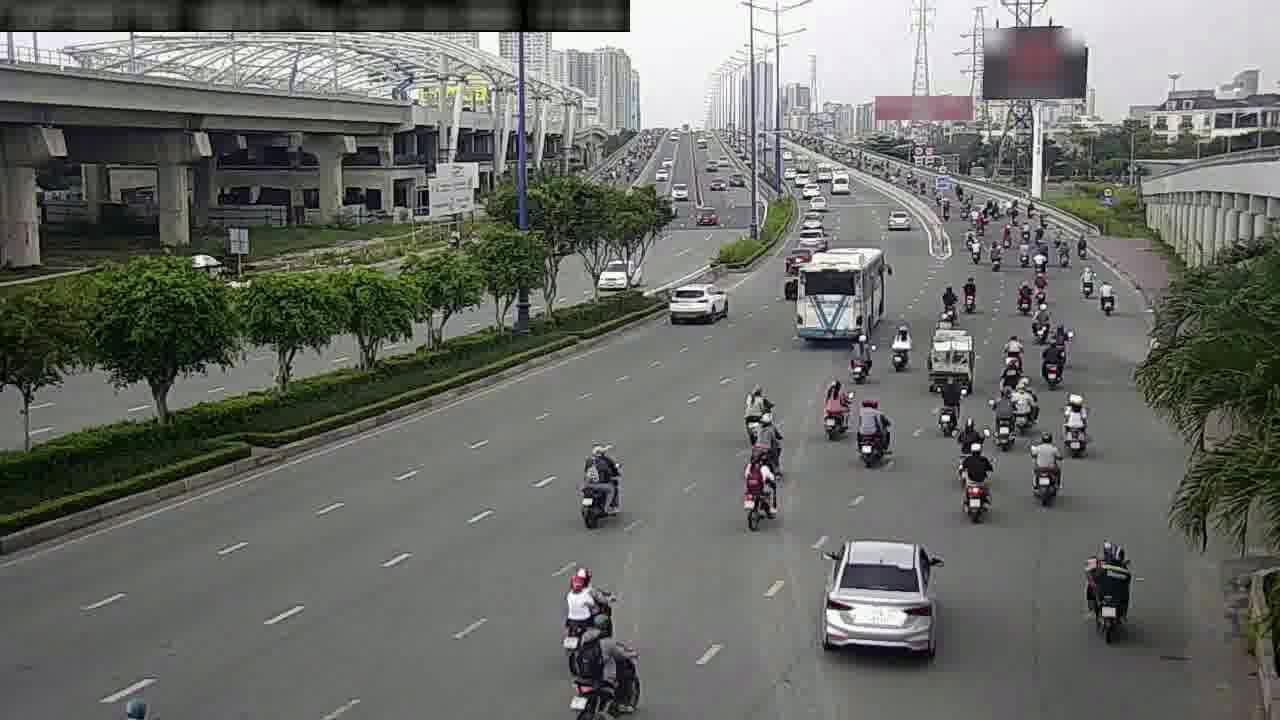14: (789, 260, 877, 343)
container: (822, 529, 944, 656), (662, 275, 731, 327)
motorbike: (567, 612, 639, 712), (1079, 534, 1144, 637), (556, 558, 611, 651), (570, 444, 621, 526), (739, 455, 785, 530), (1023, 430, 1065, 499), (850, 402, 895, 466), (954, 450, 995, 517), (1054, 392, 1095, 456), (733, 376, 773, 434), (953, 413, 991, 473), (743, 405, 782, 463), (926, 377, 964, 434), (986, 387, 1021, 444), (1034, 335, 1070, 389), (815, 378, 850, 433), (1007, 376, 1041, 431), (884, 317, 917, 372), (845, 330, 878, 380), (995, 330, 1028, 379), (929, 280, 962, 327), (1091, 273, 1121, 318), (1028, 300, 1057, 344), (957, 273, 985, 314)
